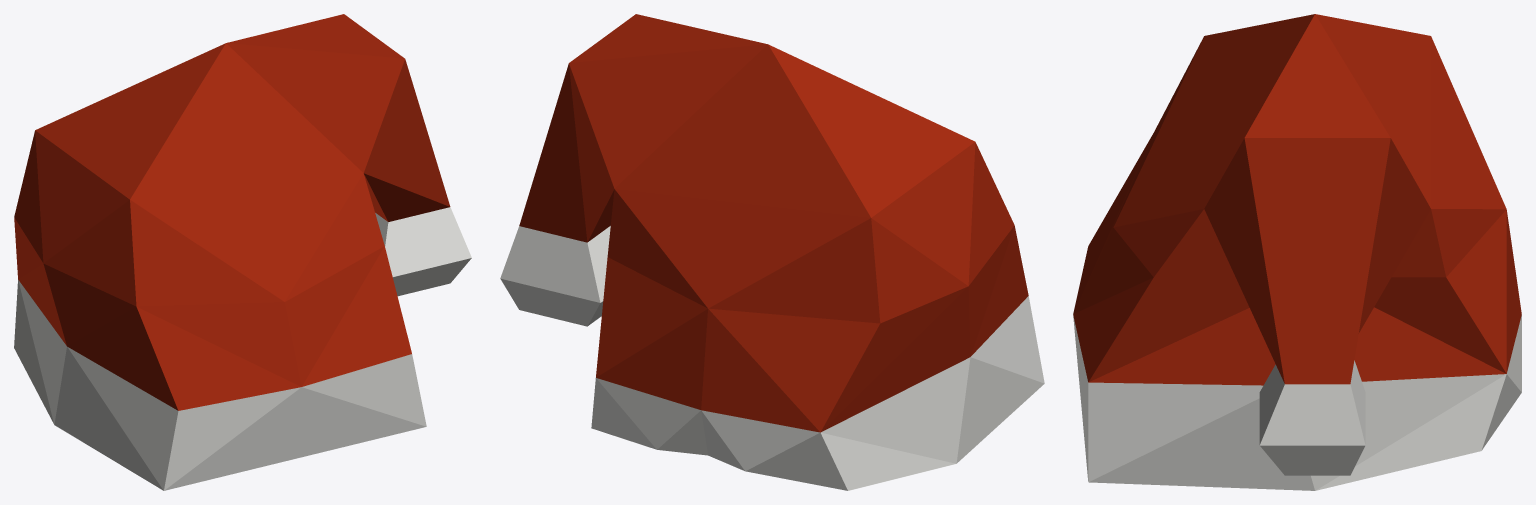
File: itm_model_headAm_santa_hat.obj
3 views of the same model, side by side, from view 1: azimuth 30°, elevation 25°; view 2: azimuth 150°, elevation 25°; view 3: azimuth 270°, elevation 25° (orthographic). The views are drawn at different scales.
Size of the model in its own units: 0.8672 by 0.6953 by 0.6953.
